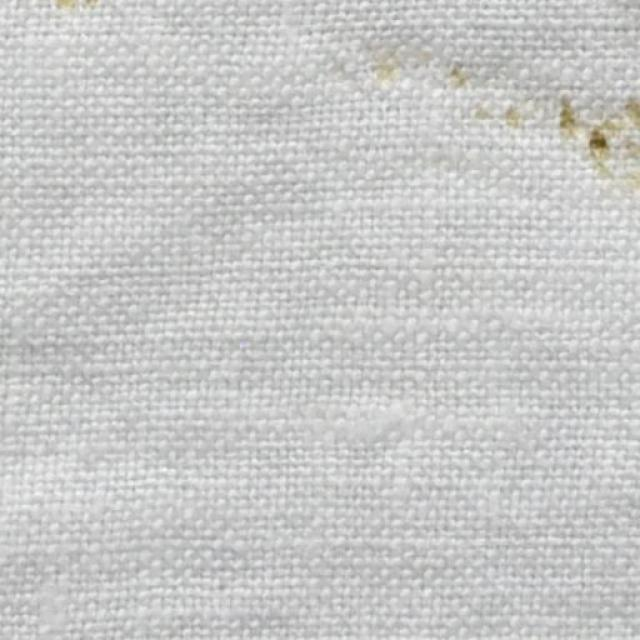Stain: (378, 48, 639, 201)
